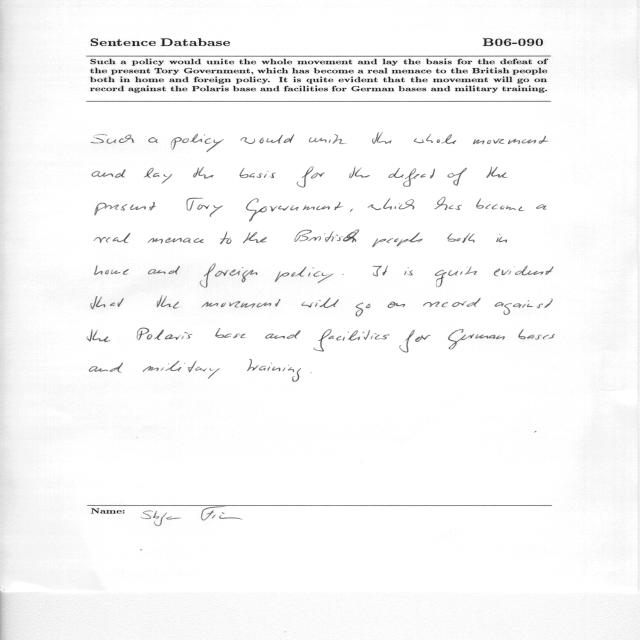word: (246, 198, 343, 222), (314, 329, 390, 352), (143, 360, 220, 379), (200, 264, 258, 287), (448, 329, 505, 349), (495, 298, 553, 315), (171, 134, 224, 152), (275, 267, 333, 283), (389, 168, 435, 187), (435, 267, 477, 287), (95, 202, 156, 215), (295, 230, 360, 242), (372, 233, 423, 248), (399, 330, 431, 353), (201, 299, 280, 308), (186, 198, 223, 217), (137, 328, 193, 340), (494, 266, 553, 277), (247, 359, 294, 372), (473, 136, 548, 144), (476, 199, 524, 211), (297, 167, 325, 187), (368, 198, 414, 210), (241, 134, 295, 144), (423, 298, 481, 307), (144, 168, 172, 184), (91, 134, 134, 144), (91, 296, 124, 309), (414, 134, 456, 144), (302, 297, 339, 308), (518, 329, 555, 340), (309, 134, 347, 144), (89, 362, 123, 373), (435, 197, 463, 210), (240, 168, 276, 178), (447, 168, 467, 186), (94, 233, 130, 243), (94, 265, 129, 275), (148, 238, 204, 244), (265, 330, 301, 339), (215, 328, 246, 338), (92, 169, 126, 178), (87, 329, 110, 342), (148, 266, 180, 275), (157, 296, 179, 309), (448, 233, 475, 243), (243, 232, 267, 243), (349, 167, 370, 178), (486, 167, 507, 178), (372, 132, 391, 144), (193, 167, 213, 178), (356, 303, 371, 317), (373, 266, 388, 277), (220, 232, 232, 244), (292, 368, 301, 382), (388, 302, 406, 308), (496, 234, 507, 243), (404, 267, 413, 276), (148, 137, 158, 143), (536, 205, 546, 210), (350, 209, 353, 212), (342, 274, 344, 275)
